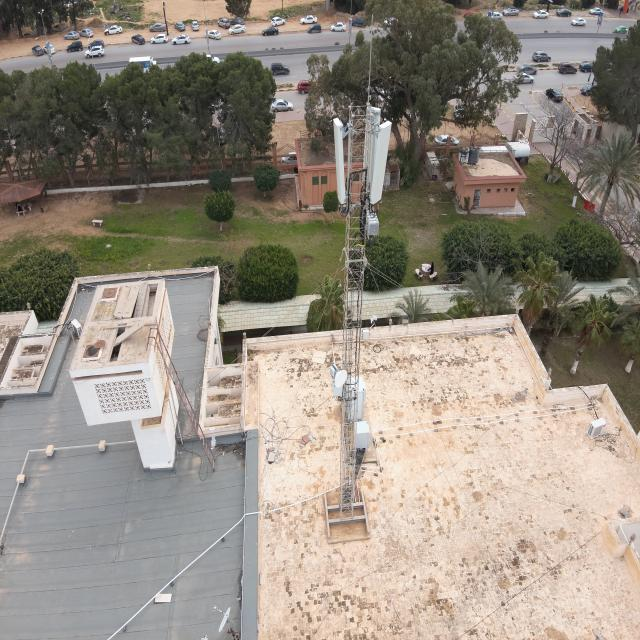antenna: (370, 120, 392, 205), (362, 105, 383, 186), (332, 117, 348, 205)
lighnig-rad: (367, 13, 375, 104)
microware-dish: (329, 361, 349, 389)
power-box: (332, 377, 344, 396)
radio-unit: (364, 208, 380, 242)
